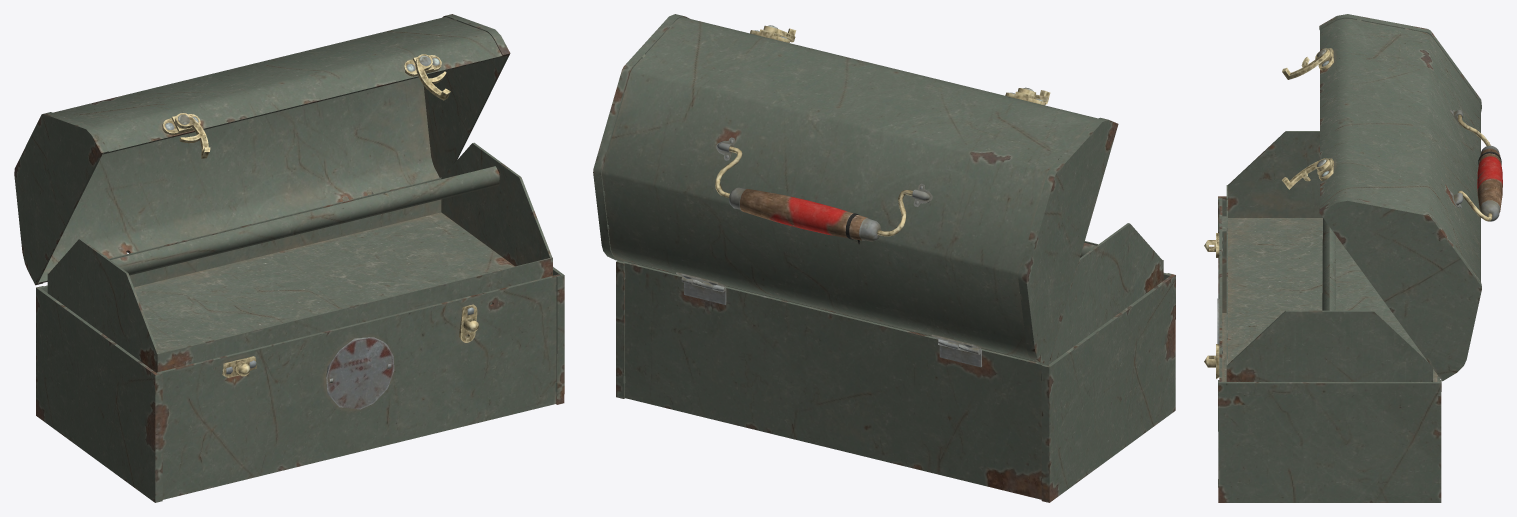
File: metal_toolbox.glb
3 views of the same model, side by side, from view 1: azimuth 30°, elevation 25°; view 2: azimuth 150°, elevation 25°; view 3: azimuth 270°, elevation 25° (orthographic). The views are drawn at different scales.
Visible parts, largest first — view 1: metal_toolbox_lid, metal_toolbox, metal_toolbox_tray, metal_toolbox_handle_latch_r, metal_toolbox_handle_latch_l; view 2: metal_toolbox_lid, metal_toolbox, metal_toolbox_tray, metal_toolbox_handle; view 3: metal_toolbox_lid, metal_toolbox_tray, metal_toolbox, metal_toolbox_handle, metal_toolbox_handle_latch_l, metal_toolbox_handle_latch_r.
Boxes of the visible parts, x1,y1,x2,y2 form: metal_toolbox_lid: (14, 14, 510, 285); metal_toolbox: (36, 267, 564, 502); metal_toolbox_tray: (47, 142, 552, 372); metal_toolbox_handle_latch_r: (415, 54, 450, 100); metal_toolbox_handle_latch_l: (175, 113, 210, 158); metal_toolbox_lid: (593, 14, 1118, 365); metal_toolbox: (616, 260, 1175, 502); metal_toolbox_tray: (628, 223, 1163, 363); metal_toolbox_handle: (715, 146, 912, 244); metal_toolbox_lid: (1317, 14, 1481, 381); metal_toolbox_tray: (1226, 131, 1432, 381); metal_toolbox: (1204, 196, 1441, 502); metal_toolbox_handle: (1458, 114, 1502, 221); metal_toolbox_handle_latch_l: (1282, 48, 1330, 79); metal_toolbox_handle_latch_r: (1282, 158, 1330, 189).
Bounding box in the file's own units: 0.4 × 0.3047 × 0.2705.
1 material, 1 textured.
